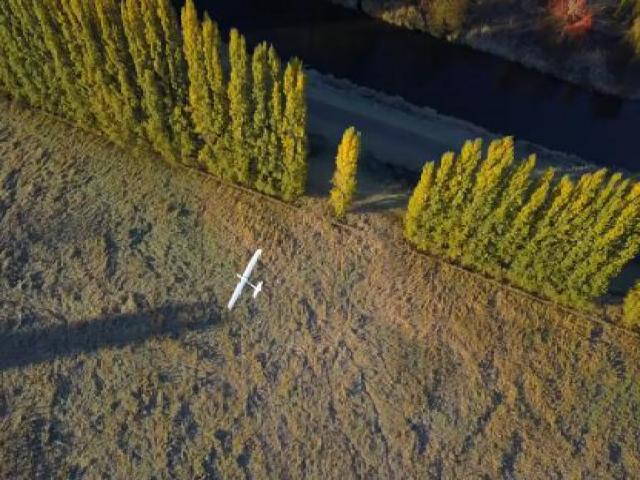uav: (218, 244, 274, 314)
